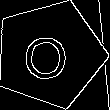O_N: (26, 28, 73, 81)
